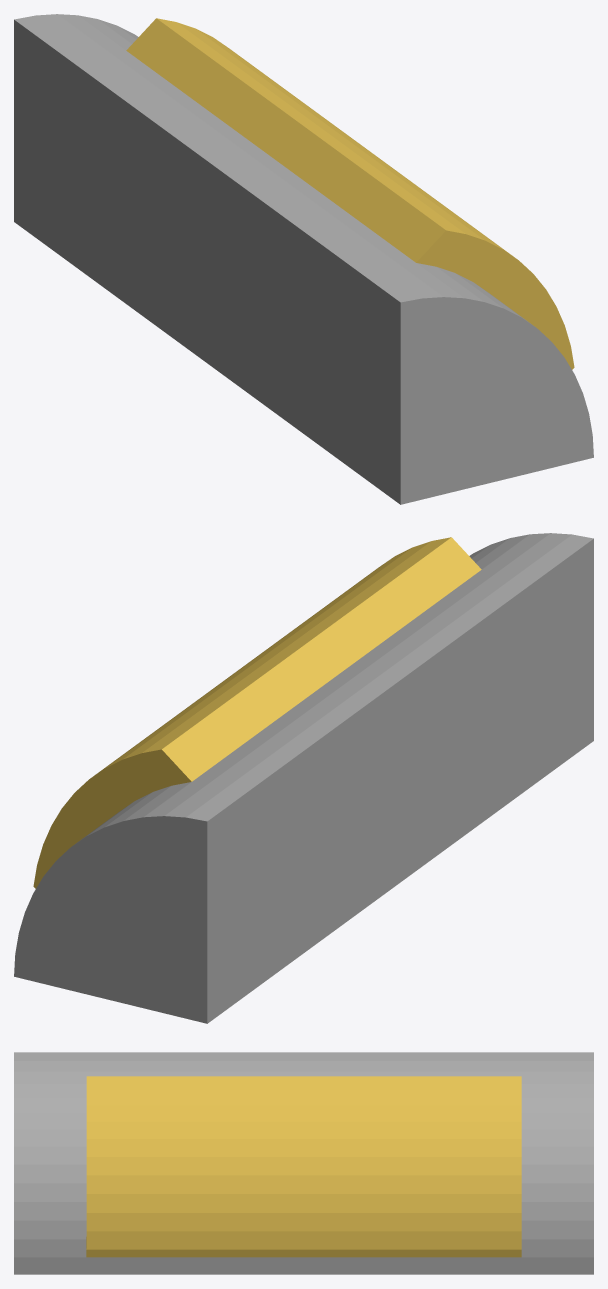
Rendered from ColorBox.fbx.
The picture shows the model from 3 angles, top to bottom: view 1: azimuth 30°, elevation 25°; view 2: azimuth 150°, elevation 25°; view 3: azimuth 270°, elevation 25°; orthographic projection. The views are drawn at different scales.
Parts seen in each view (by area): view 1: Cube; view 2: Cube; view 3: Cube.
Part boxes in pixels (x1=…): Cube: x1=14, y1=14, x2=593, y2=504; Cube: x1=14, y1=533, x2=593, y2=1023; Cube: x1=14, y1=1052, x2=593, y2=1274.
Size of the model in its own units: 230 by 214 by 692.
